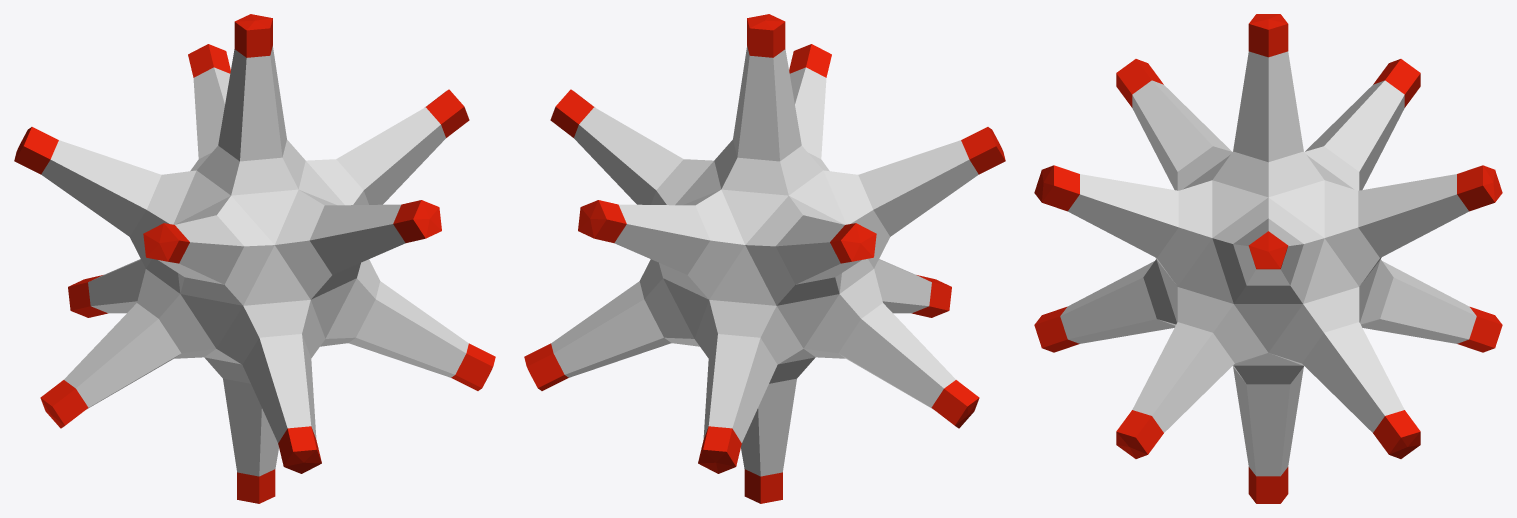
The model's file is naval_mine.fbx.
The picture shows the model from 3 angles, left to right: view 1: azimuth 30°, elevation 25°; view 2: azimuth 150°, elevation 25°; view 3: azimuth 270°, elevation 25°; orthographic projection.
Parts seen in each view (by area): view 1: Icosphere; view 2: Icosphere; view 3: Icosphere.
Part boxes in pixels (x1,y1,x2,y2): Icosphere: (14,14,495,503); Icosphere: (524,14,1005,503); Icosphere: (1034,14,1502,503).
Size of the model in its own units: 321 by 351 by 311.
